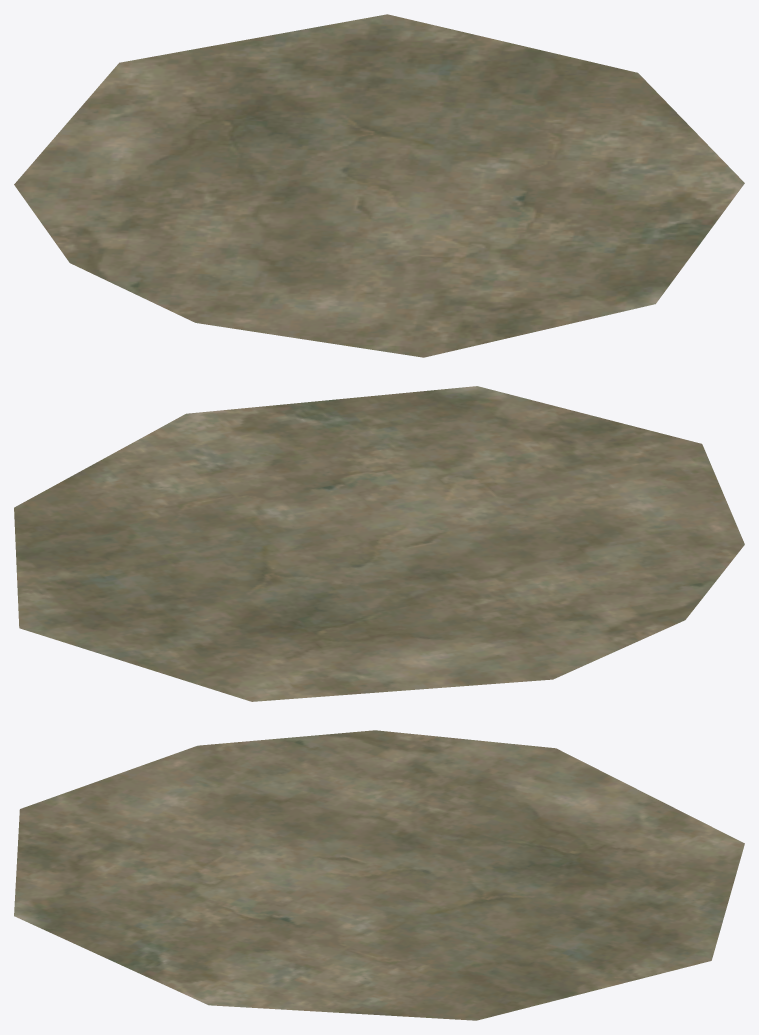
File: OVERHILL_A_01_OBJECT36.fbx
The picture shows the model from 3 angles, top to bottom: view 1: azimuth 30°, elevation 25°; view 2: azimuth 150°, elevation 25°; view 3: azimuth 270°, elevation 25°; orthographic projection. The views are drawn at different scales.
Visible parts, largest first — view 1: OVERHILL_A_01_OBJECT36; view 2: OVERHILL_A_01_OBJECT36; view 3: OVERHILL_A_01_OBJECT36.
Boxes of the visible parts, <box> form: OVERHILL_A_01_OBJECT36: <box>14,14,744,357</box>; OVERHILL_A_01_OBJECT36: <box>14,386,744,701</box>; OVERHILL_A_01_OBJECT36: <box>14,730,744,1020</box>.
Size of the model in its own units: 12063 by 0.00209 by 12830.
1 material, 1 textured.
